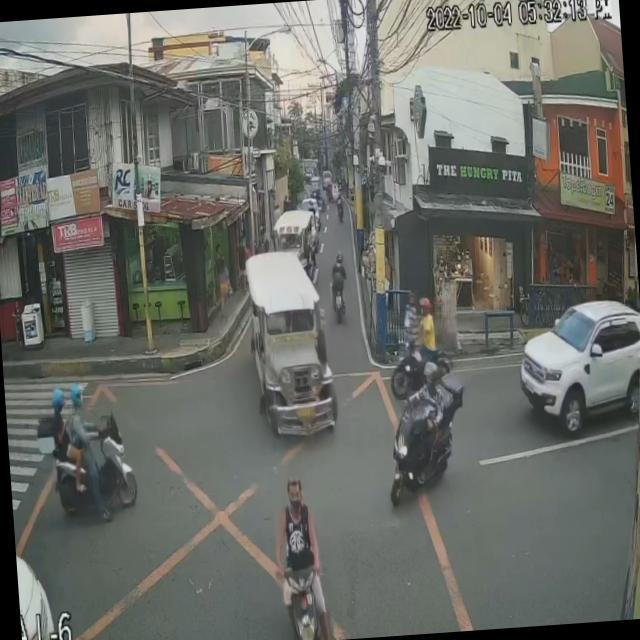half: (420, 360, 440, 391), (70, 382, 86, 412), (49, 388, 65, 416), (418, 297, 431, 319)
not_wearing: (286, 476, 302, 510)
